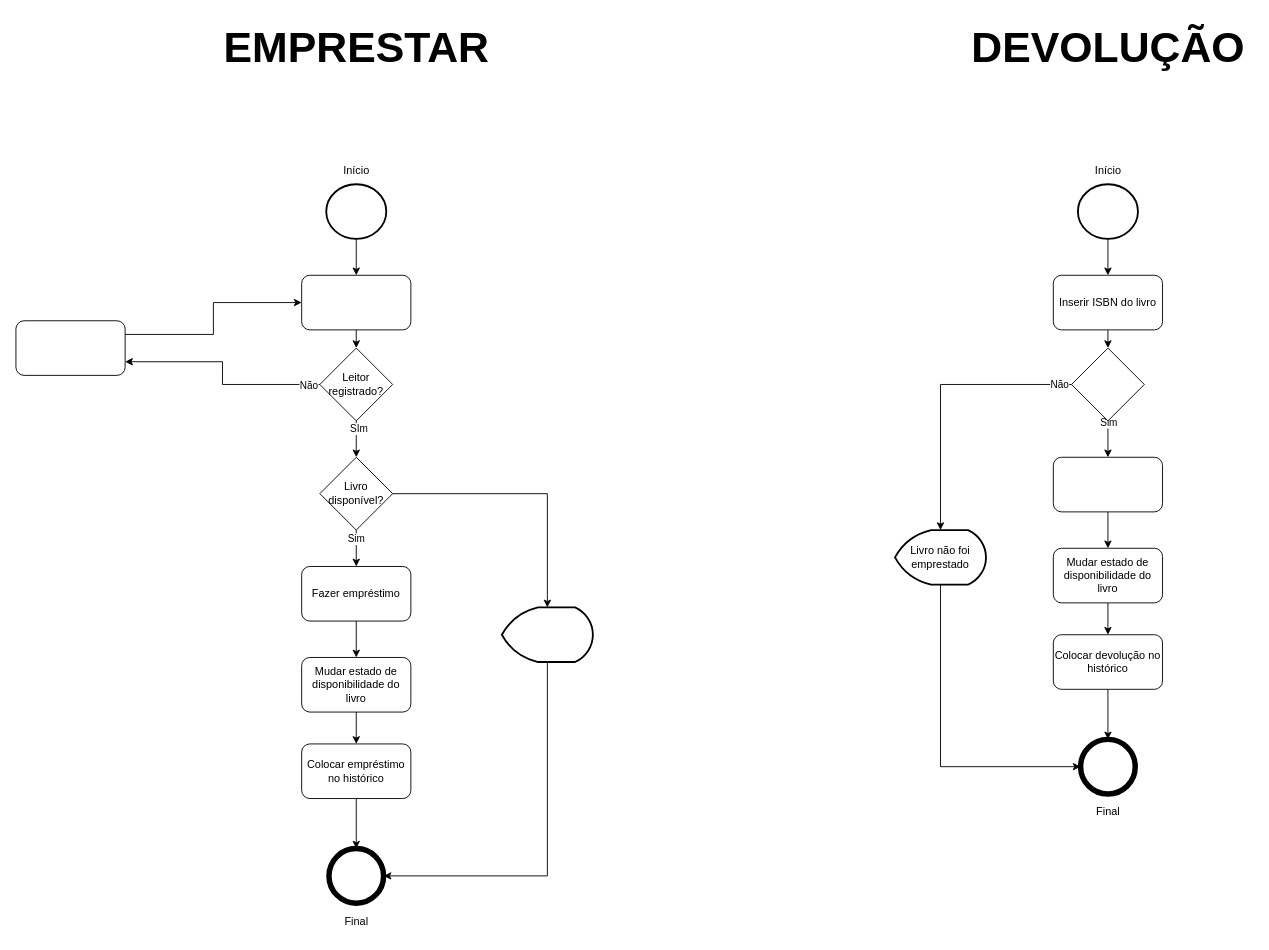
Image size: 1269x950. Some labels were removed from this diagram. Here are the shapes that lost their labels. From the top down, the box of each, then its label:
(301, 274, 411, 330): Inserir nome do leitor
(15, 320, 125, 375): Registrar Leitor
(1071, 347, 1144, 421): Livro Emprestado?
(1052, 456, 1163, 512): Fazer devolução
(500, 606, 593, 662): Livro não disponível
